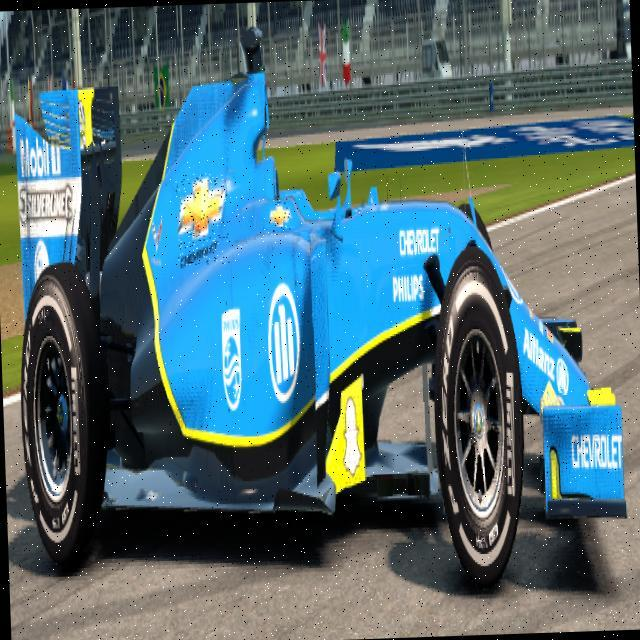Chevrolet: (175, 172, 229, 265), (268, 197, 291, 235)
